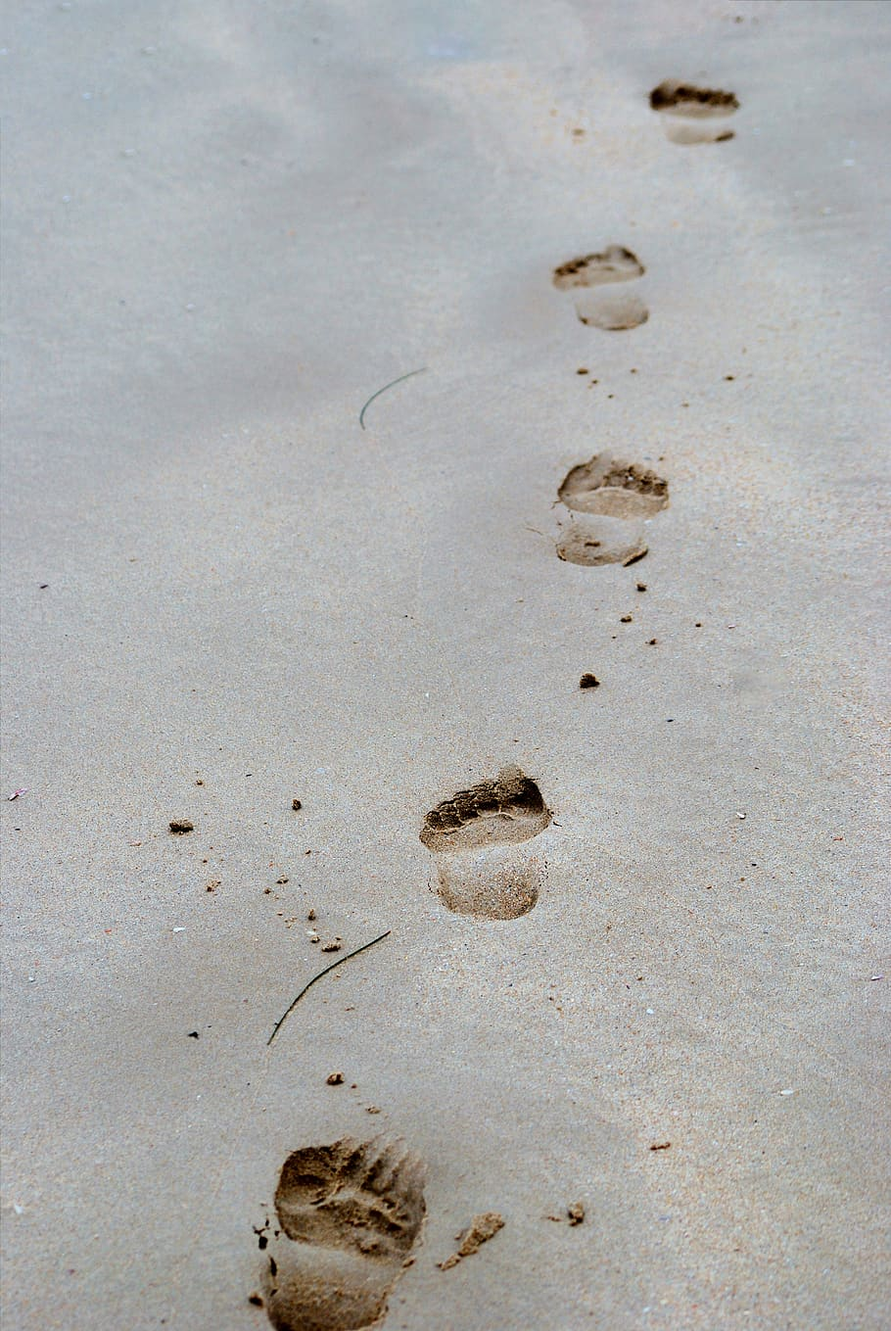human_foot_print: (399, 716, 578, 943), (258, 1099, 425, 1316), (524, 444, 678, 576), (527, 223, 666, 350), (642, 52, 760, 154)
